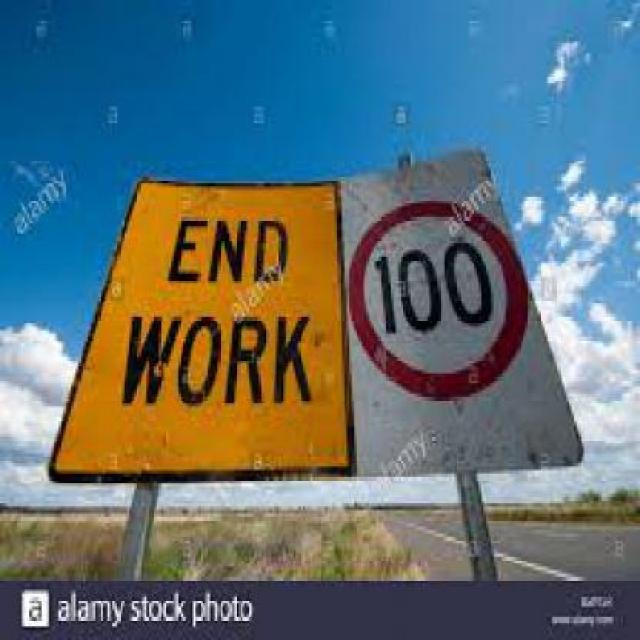traffic_sign: (347, 199, 533, 407)
